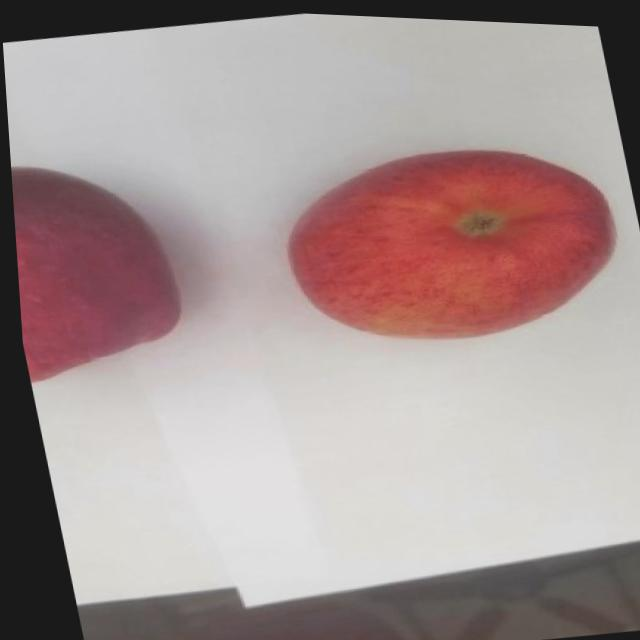Apple: (261, 114, 634, 363), (7, 143, 190, 391)
